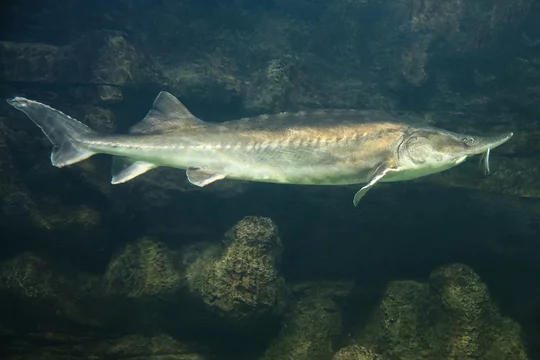Sturgeon: (5, 77, 540, 251)
